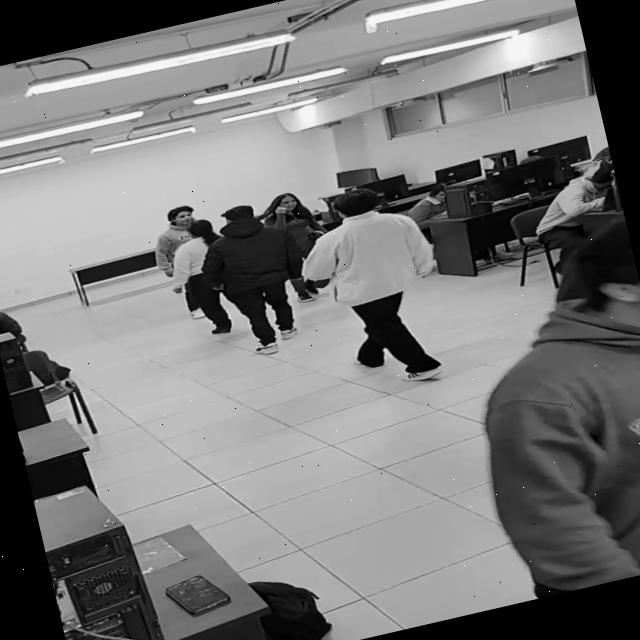Persona: (443, 225, 640, 602), (291, 176, 457, 402), (202, 198, 304, 364), (151, 212, 239, 346)
